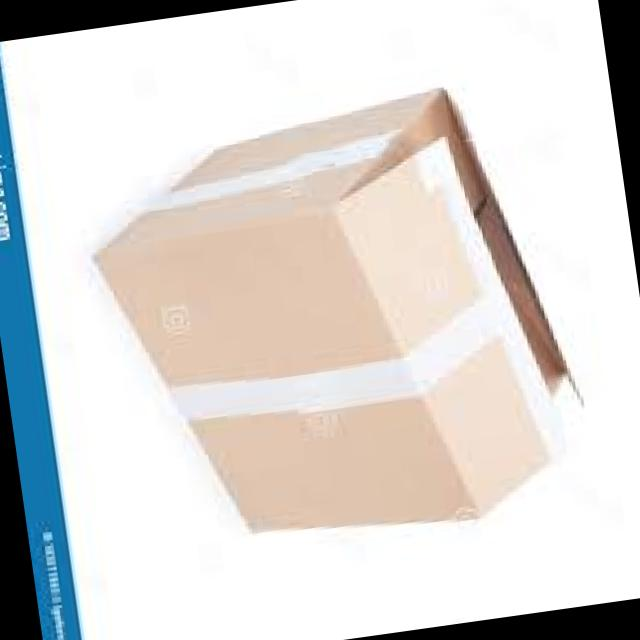cardboard: (99, 91, 567, 531)
